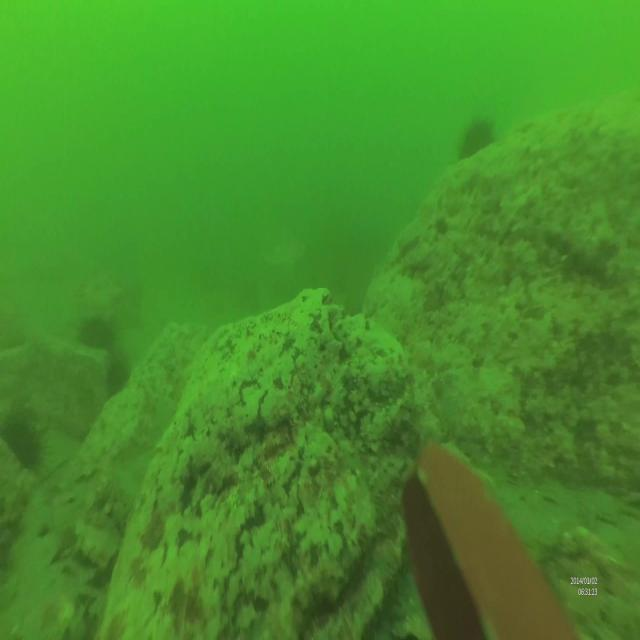echinus: (0, 408, 56, 486), (457, 118, 501, 178), (78, 313, 120, 375), (99, 355, 136, 420)
